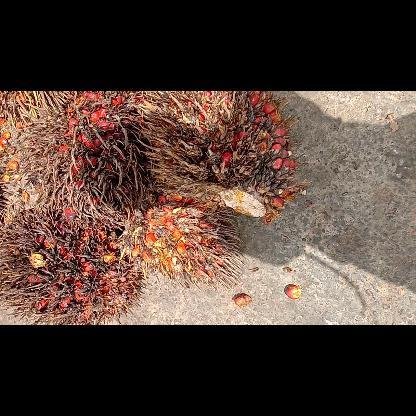Terlalu masak: (132, 91, 314, 227), (14, 90, 168, 232), (0, 205, 149, 325), (112, 192, 250, 296)
